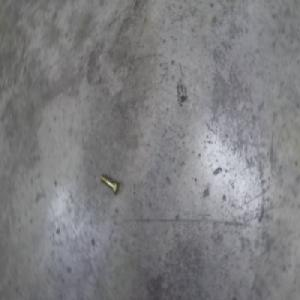Bolt: (100, 171, 120, 194)
